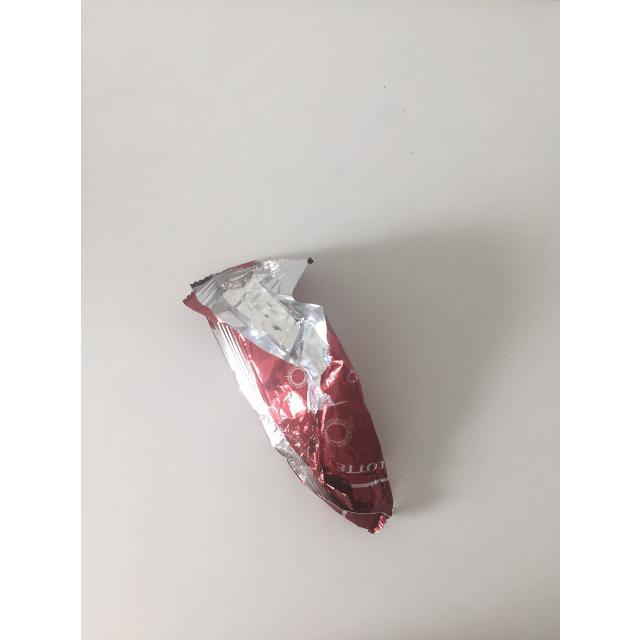Paquete de plastico: (193, 240, 412, 538)
